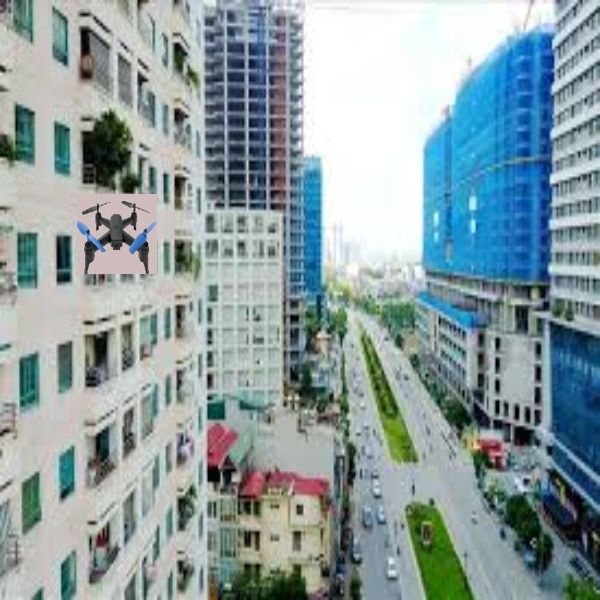drone: (72, 192, 154, 275)
